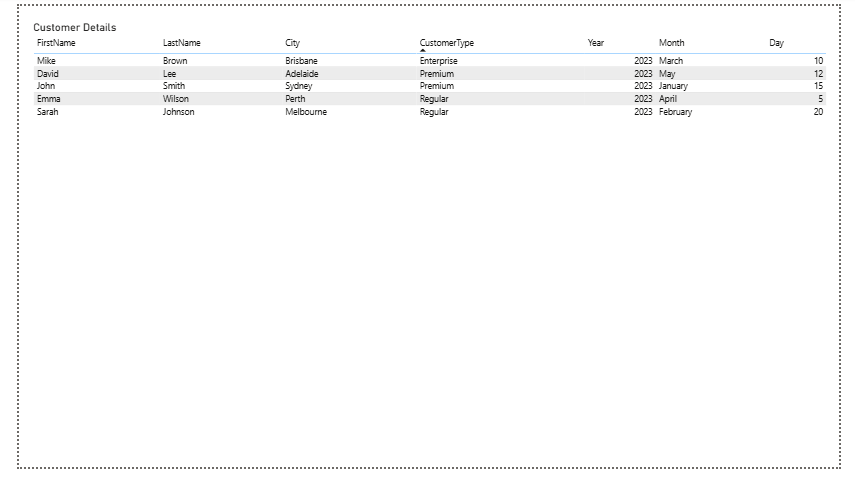

The dashboard page shown, as its layout file describes it:
{"tool":"powerbi","page":{"name":"Customer Details","canvas":[1280,720],"ordinal":1},"visuals":[{"type":"tableEx","title":"Customer Details ","fields":{"Values":["Customers.FirstName","Customers.LastName","Customers.City","Customers.CustomerType","Customers.JoinDate.Variation.Date Hierarchy.Year","Customers.JoinDate.Variation.Date Hierarchy.Month","Customers.JoinDate.Variation.Date Hierarchy.Day"]},"box":[16.4,23.9,1251.8,682.7],"z":1}]}

Visuals, with their boxes in screenshot pixels (x1, y1, x2, y2), scaled from the page's 1280x720 canvas onto the 855x482 screenshot:
"Customer Details " tableEx: {"left": 11, "top": 16, "right": 847, "bottom": 473}
